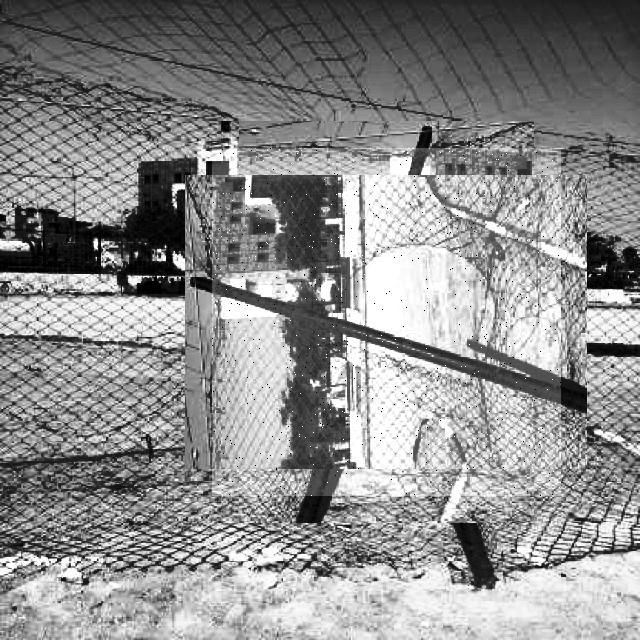anomaly-fence: (212, 148, 561, 496)
